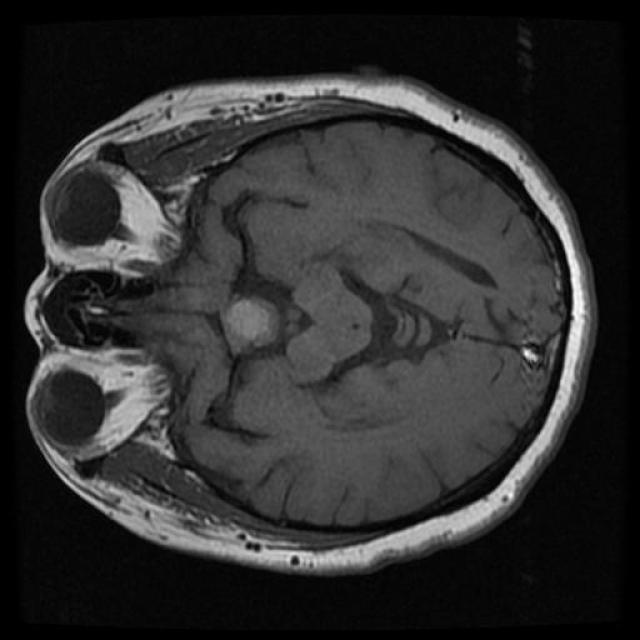Pituitary: (221, 296, 279, 354)
